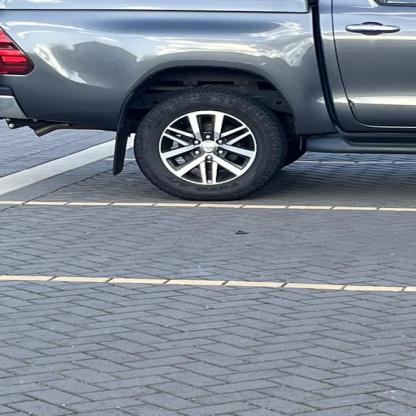Tire: (133, 90, 285, 202)
